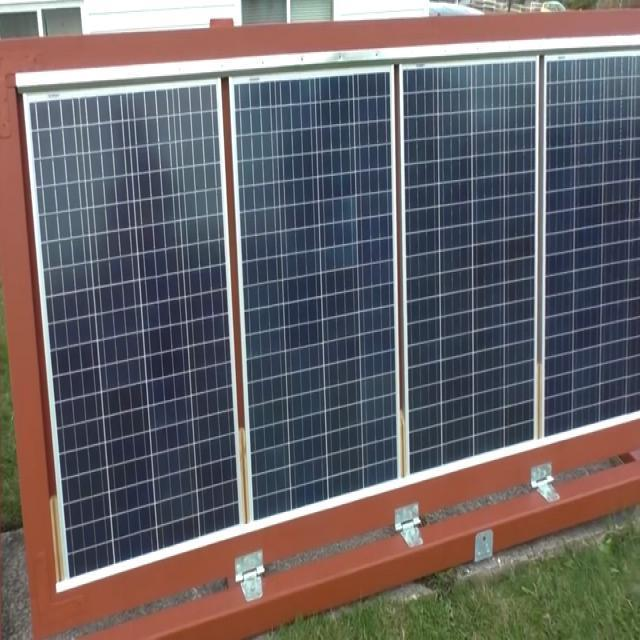Normal Solar Panel: (23, 49, 640, 580)
